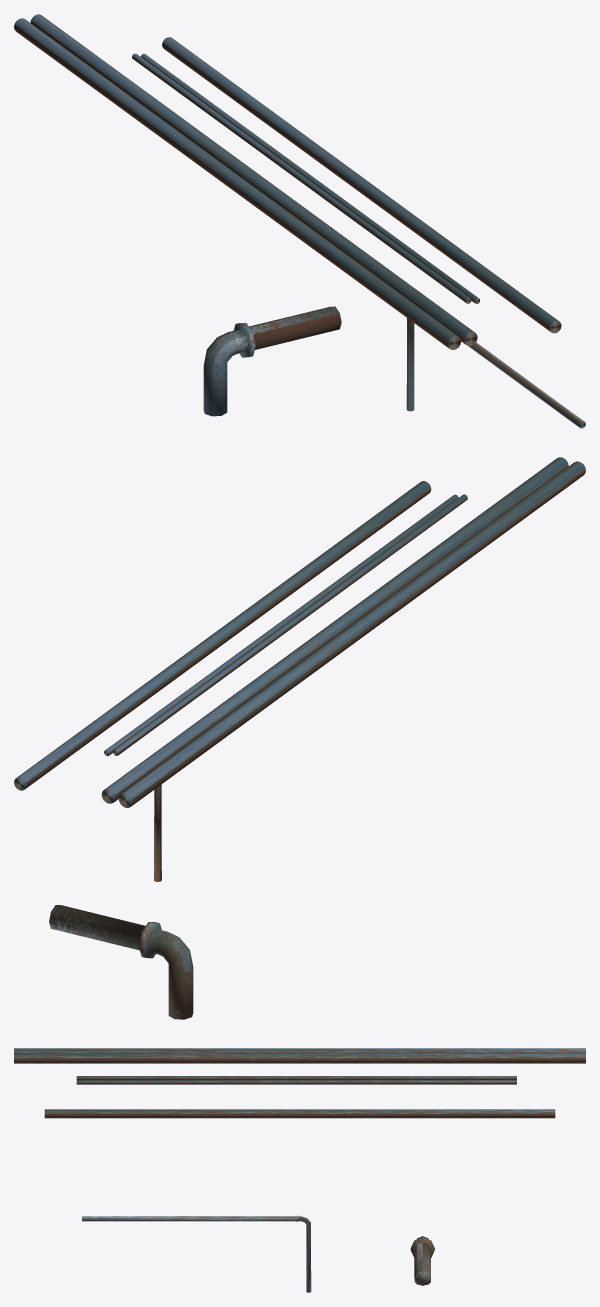
File: Canos_Esgoto_MainMenu.fbx
The picture shows the model from 3 angles, top to bottom: view 1: azimuth 30°, elevation 25°; view 2: azimuth 150°, elevation 25°; view 3: azimuth 270°, elevation 25°; orthographic projection. The views are drawn at different scales.
Parts seen in each view (by area): view 1: Cylinder.009, Cylinder.003, Cylinder.004, Cylinder.007, Cylinder.005, Cylinder.006; view 2: Cylinder.009, Cylinder.003, Cylinder.004, Cylinder.007, Cylinder.005, Cylinder.006; view 3: Cylinder.003, Cylinder.004, Cylinder.007, Cylinder.009, Cylinder.006, Cylinder.005.
Boxes of the visible parts, left/top/right/bottom form: Cylinder.009: left=14, top=18, right=460, bottom=349; Cylinder.003: left=30, top=14, right=477, bottom=345; Cylinder.004: left=162, top=37, right=561, bottom=333; Cylinder.007: left=132, top=53, right=479, bottom=303; Cylinder.005: left=203, top=306, right=341, bottom=416; Cylinder.006: left=406, top=318, right=585, bottom=428; Cylinder.009: left=119, top=461, right=585, bottom=807; Cylinder.003: left=101, top=457, right=568, bottom=803; Cylinder.004: left=14, top=481, right=431, bottom=790; Cylinder.007: left=104, top=494, right=467, bottom=756; Cylinder.005: left=49, top=905, right=193, bottom=1019; Cylinder.006: left=154, top=784, right=161, bottom=881; Cylinder.003: left=14, top=1053, right=585, bottom=1063; Cylinder.004: left=44, top=1109, right=555, bottom=1118; Cylinder.007: left=76, top=1076, right=516, bottom=1084; Cylinder.009: left=14, top=1048, right=585, bottom=1053; Cylinder.006: left=82, top=1215, right=311, bottom=1292; Cylinder.005: left=410, top=1236, right=434, bottom=1285.
Bounding box in the file's own units: 5.09 × 7.86 × 19.35.
Materials: 1 (1 with a texture image).
